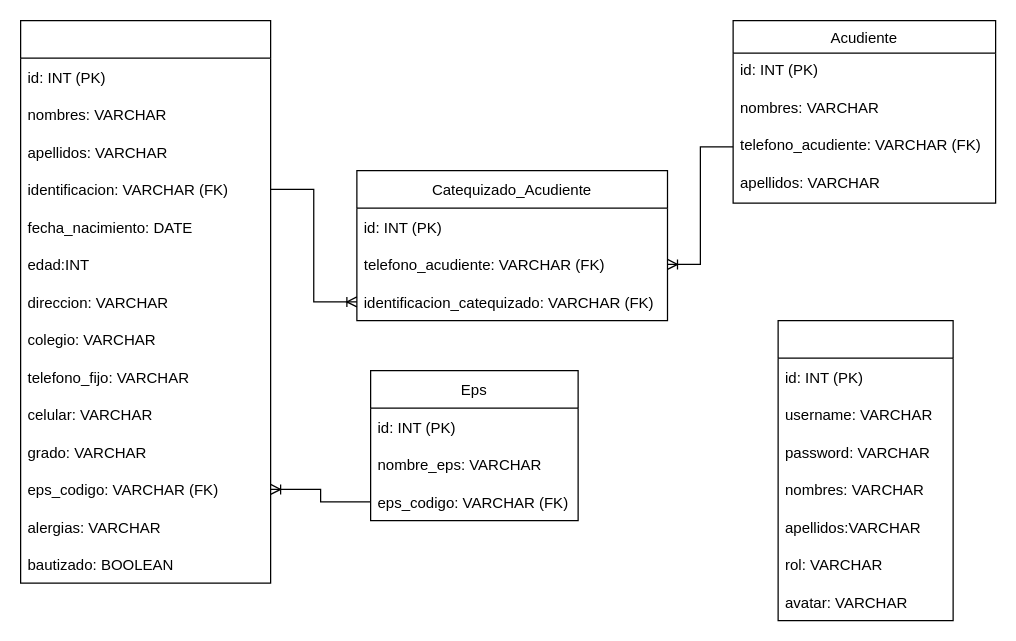
The diagram is 1016 pixels wide and 641 high, and some of its shapes have lost their labels. The shapes that lost their labels are listed below. From the top down, each one's box as (x1, y1, x2, y2) in pixels, then its label:
(19, 19, 271, 583): Catequizado
(777, 319, 953, 621): Usuario
